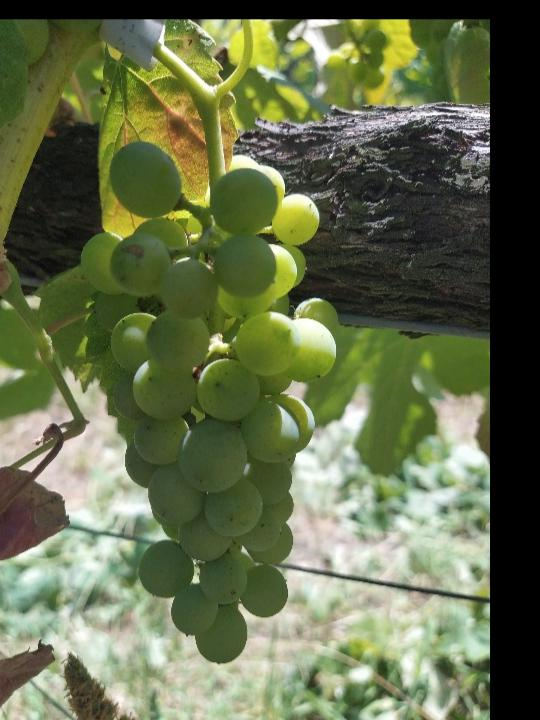grape: (80, 142, 344, 666)
